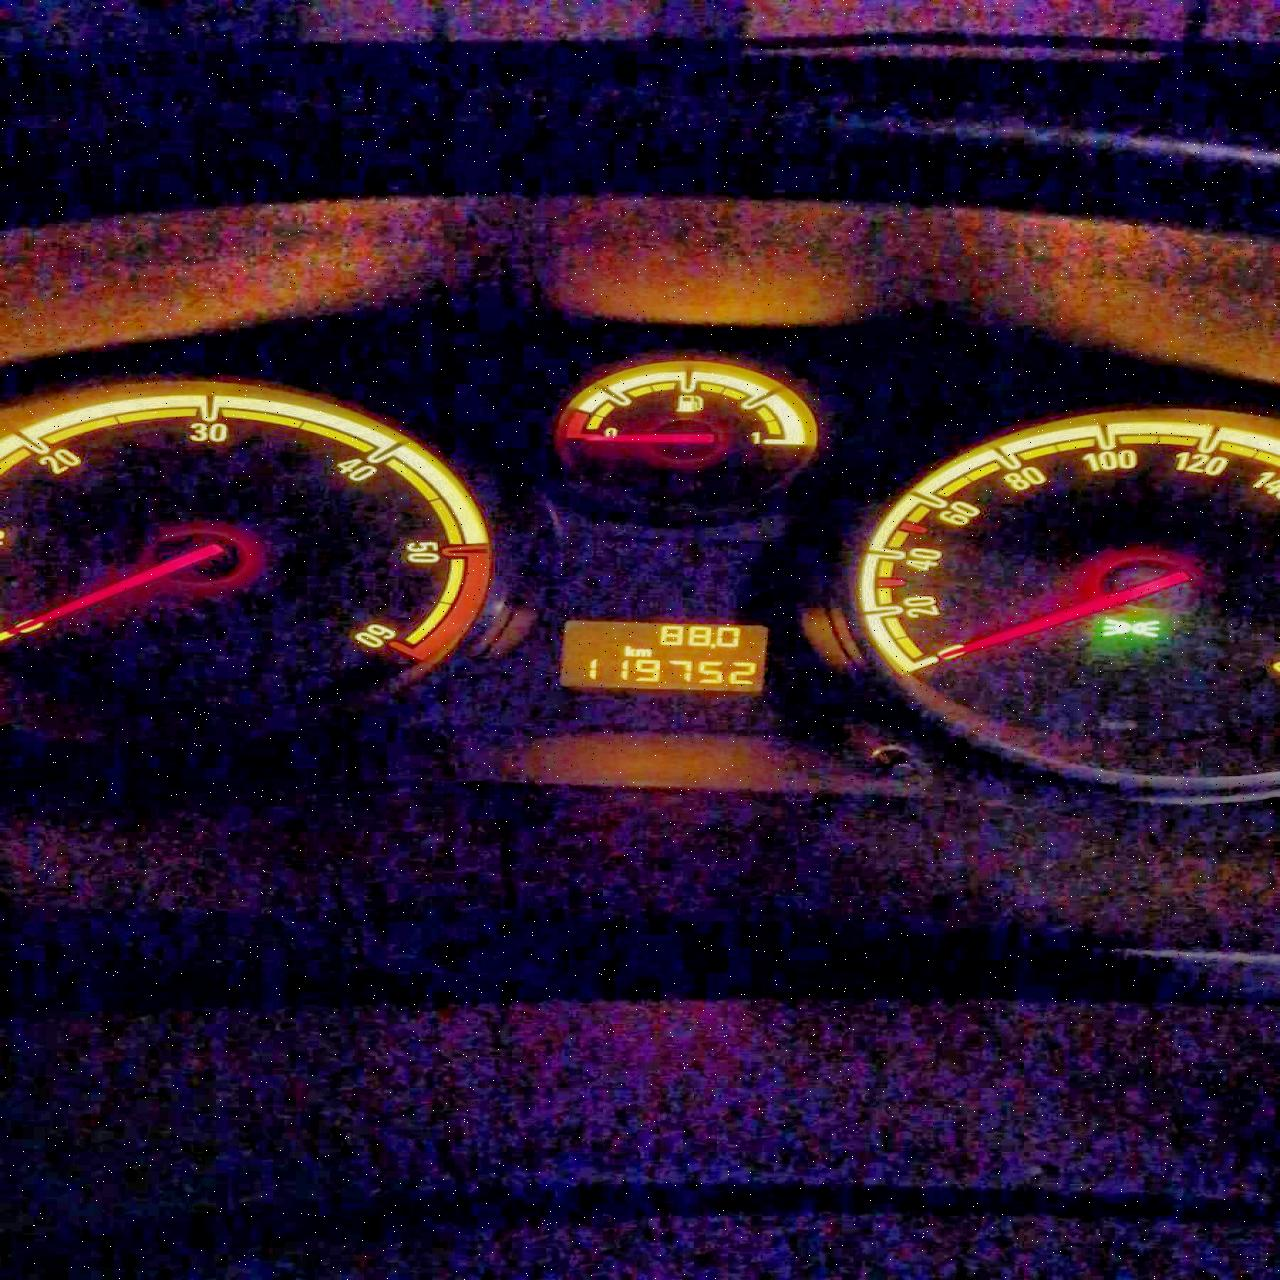-: (710, 642, 715, 648)
0: (714, 626, 740, 647)
1: (619, 659, 628, 680), (587, 659, 595, 680)
2: (727, 661, 756, 685)
5: (696, 660, 722, 683)
7: (666, 659, 693, 682)
8: (659, 625, 682, 646), (687, 626, 710, 646)
9: (633, 659, 660, 681)
X: (622, 645, 634, 658), (634, 648, 649, 658)
odometer: (553, 617, 771, 694)
